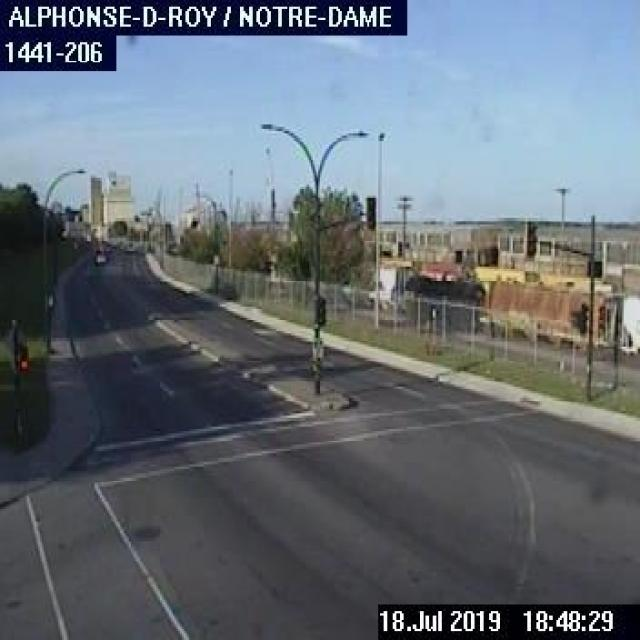vehicle: (91, 247, 109, 264)
